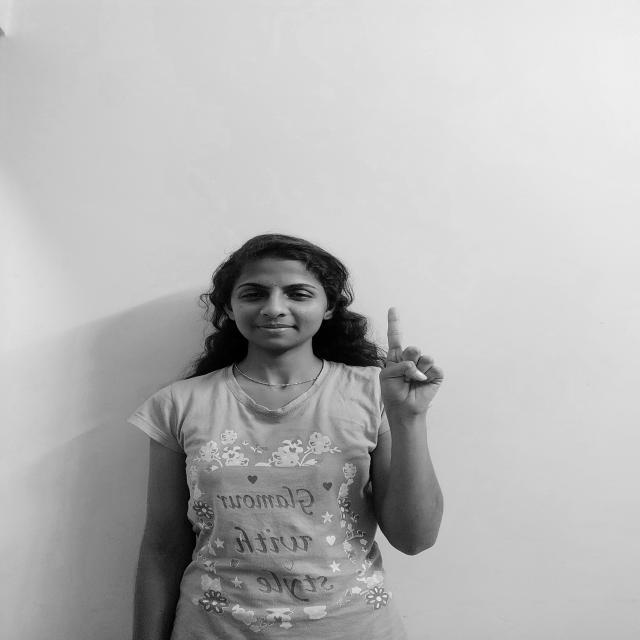Question: (374, 295, 450, 428)
